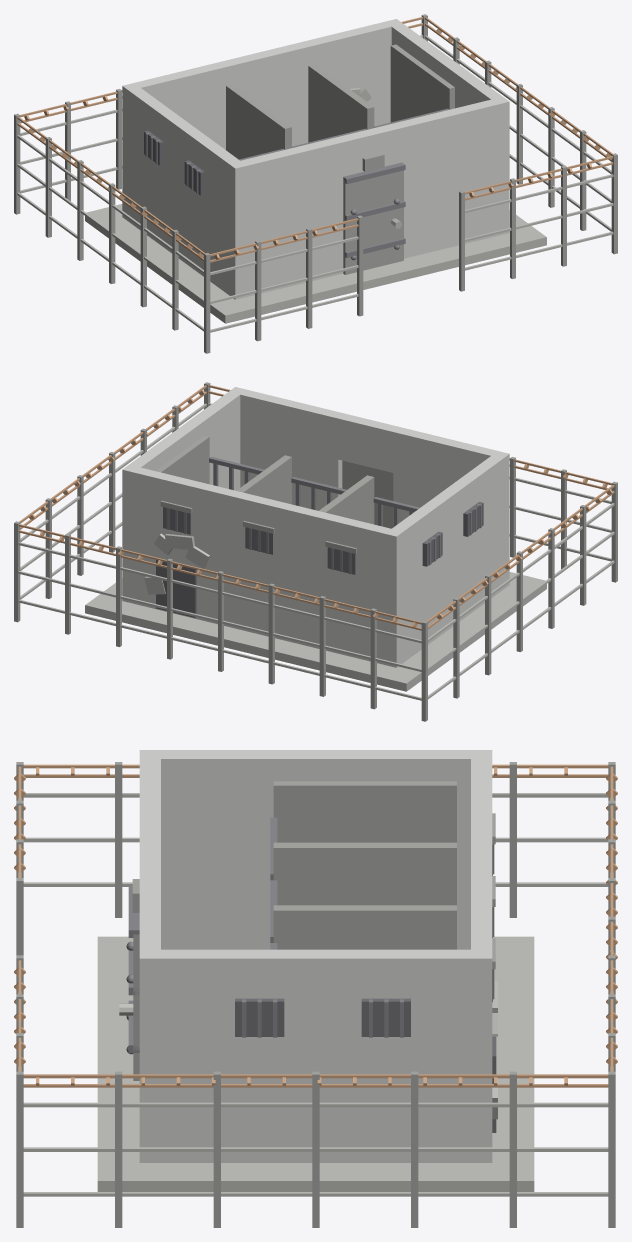
Rendered from vezeni_bez_strechy.glb.
3 renders of one model, top to bottom at view 1: azimuth 30°, elevation 25°; view 2: azimuth 150°, elevation 25°; view 3: azimuth 270°, elevation 25°, orthographic. The views are drawn at different scales.
Parts seen in each view (by area): view 1: VezeniBezStrechy_grey, VezeniBezStrechy_grey4, VezeniBezStrechy_grey3, VezeniBezStrechy_rust, VezeniBezStrechy_dark, VezeniBezStrechy_black; view 2: VezeniBezStrechy_grey, VezeniBezStrechy_grey4, VezeniBezStrechy_grey3, VezeniBezStrechy_rust, VezeniBezStrechy_black, VezeniBezStrechy_dark; view 3: VezeniBezStrechy_grey, VezeniBezStrechy_grey4, VezeniBezStrechy_grey3, VezeniBezStrechy_rust, VezeniBezStrechy_black, VezeniBezStrechy_dark.
Boxes of the visible parts, left/top/right/bottom form: VezeniBezStrechy_grey: left=122, top=19, right=509, bottom=299; VezeniBezStrechy_grey4: left=14, top=14, right=617, bottom=353; VezeniBezStrechy_grey3: left=17, top=35, right=613, bottom=332; VezeniBezStrechy_rust: left=17, top=17, right=613, bottom=262; VezeniBezStrechy_dark: left=145, top=108, right=449, bottom=260; VezeniBezStrechy_black: left=144, top=130, right=204, bottom=195; VezeniBezStrechy_grey: left=122, top=387, right=509, bottom=667; VezeniBezStrechy_grey4: left=14, top=382, right=617, bottom=721; VezeniBezStrechy_grey3: left=18, top=403, right=614, bottom=700; VezeniBezStrechy_rust: left=18, top=385, right=614, bottom=630; VezeniBezStrechy_black: left=156, top=502, right=483, bottom=617; VezeniBezStrechy_dark: left=166, top=456, right=481, bottom=574; VezeniBezStrechy_grey: left=139, top=750, right=492, bottom=1162; VezeniBezStrechy_grey4: left=16, top=762, right=615, bottom=1227; VezeniBezStrechy_grey3: left=18, top=793, right=613, bottom=1196; VezeniBezStrechy_rust: left=14, top=764, right=617, bottom=1087; VezeniBezStrechy_black: left=235, top=844, right=496, bottom=1132; VezeniBezStrechy_dark: left=126, top=817, right=494, bottom=1054.
Bounding box in the file's own units: 10.57 × 3.4 × 8.57.
